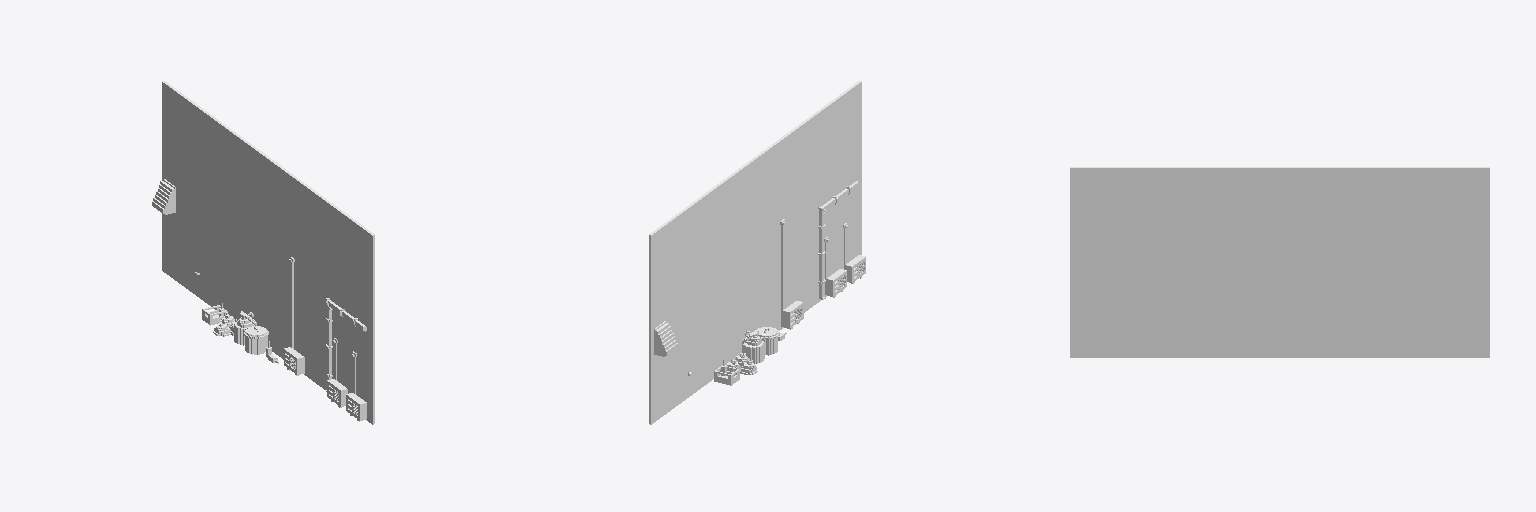
Rendered from stage1_wall_right.obj.
3 renders of one model, left to right at view 1: azimuth 30°, elevation 25°; view 2: azimuth 150°, elevation 25°; view 3: azimuth 270°, elevation 25°, orthographic.
Parts seen in each view (by area): view 1: object 1; view 2: object 1; view 3: object 1.
Boxes of the visible parts, box(x1,y1,x2,y2) form: object 1: box(152, 81, 374, 424); object 1: box(649, 81, 865, 424); object 1: box(1070, 167, 1489, 357).
Bounding box in the file's own units: 2 × 12.7 × 25.6.